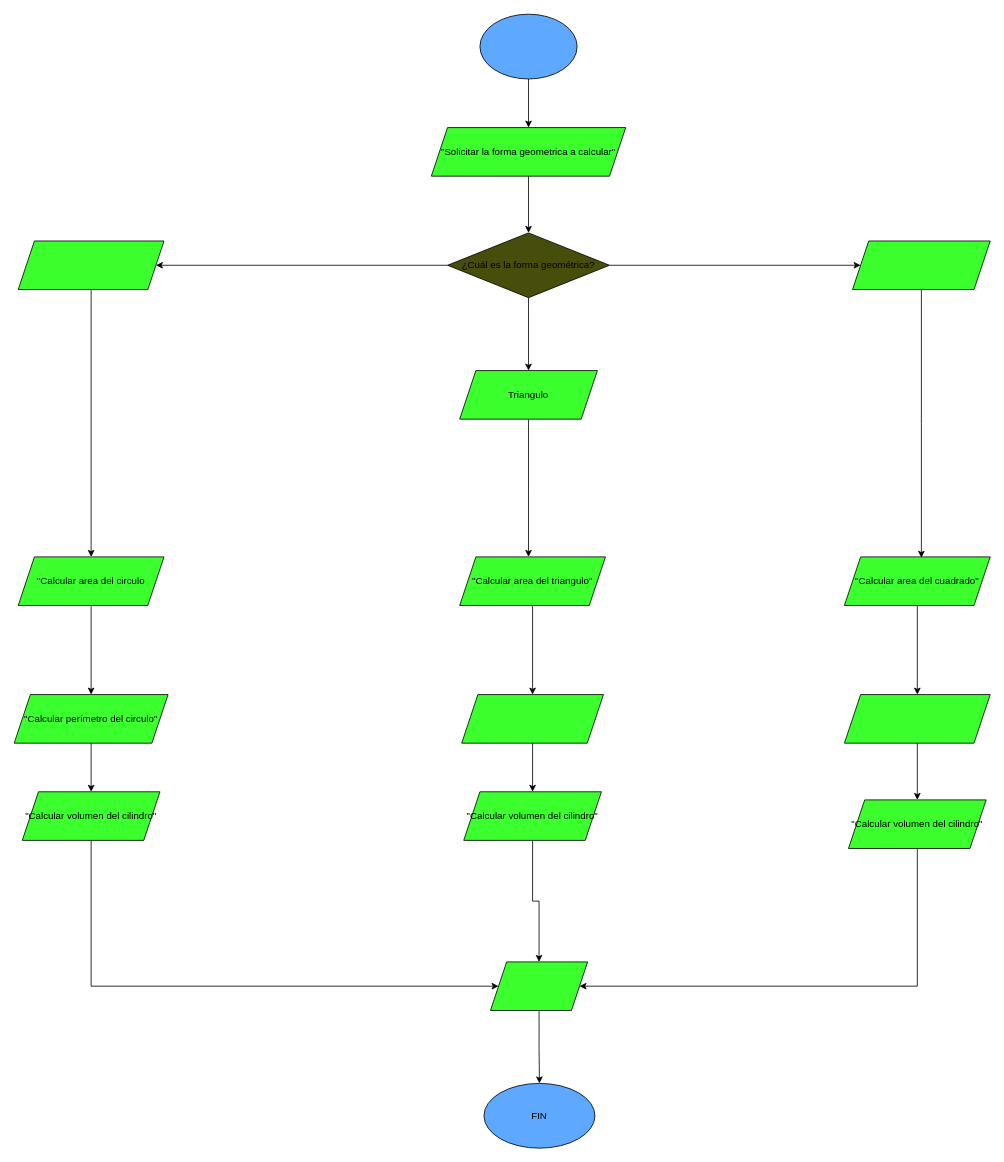
Some shapes in this 1004 by 1162 pixel diagram are drawn without their labels. Here are the shapes that lost their labels. From the top down, the box of each, then its label:
(479, 13, 577, 79): INICIO
(17, 240, 164, 290): Circulo
(852, 240, 990, 290): Cuadrado
(461, 694, 603, 743): "Calcular perímetro del triangulo"
(844, 694, 990, 743): "Calcular perímetro del cuadrado"
(490, 961, 588, 1010): Mostrar resultado
